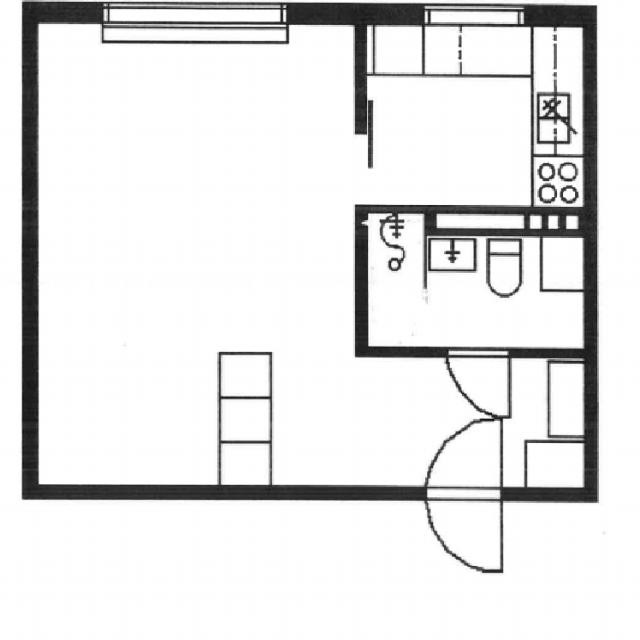door: (426, 409, 501, 501), (426, 487, 501, 579), (449, 347, 508, 418)
